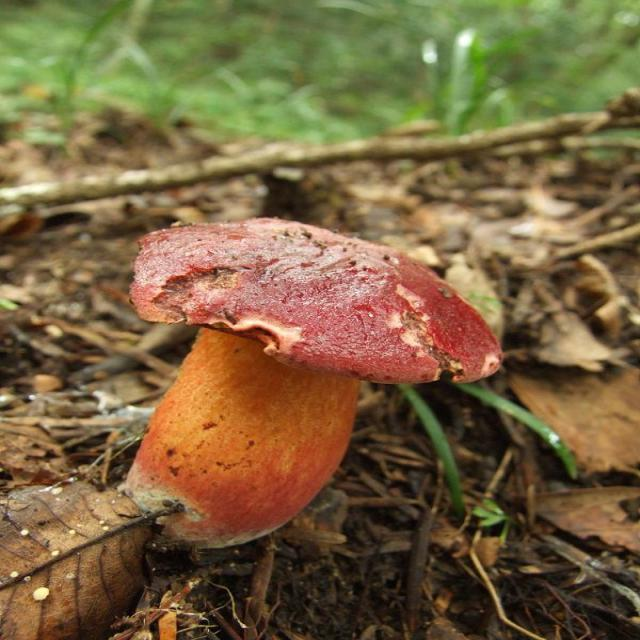Boletus: (114, 218, 493, 548)
